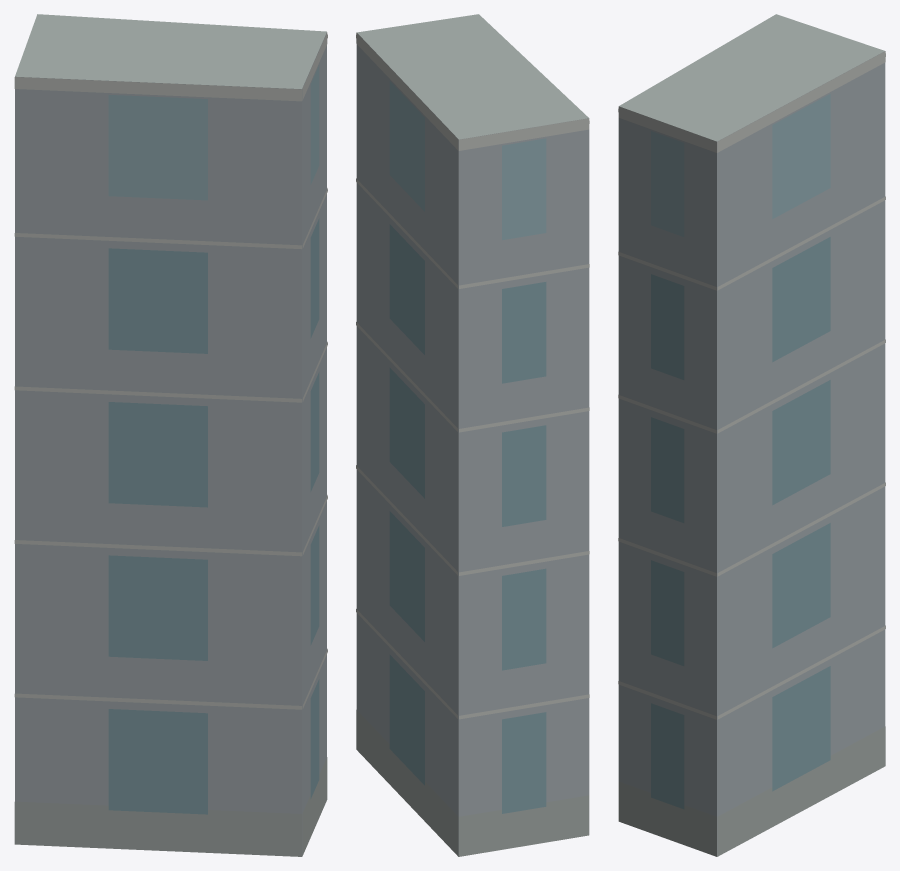
File: survey-upis-32763506.glb
The picture shows the model from 3 angles, left to right: view 1: azimuth 30°, elevation 25°; view 2: azimuth 150°, elevation 25°; view 3: azimuth 270°, elevation 25°; orthographic projection. The views are drawn at different scales.
Visible parts, largest first — view 1: survey-upis-32763506.tmp; view 2: survey-upis-32763506.tmp; view 3: survey-upis-32763506.tmp.
Part boxes in pixels (box(x1,y1,x2,y2)): survey-upis-32763506.tmp: box(14, 14, 327, 856); survey-upis-32763506.tmp: box(356, 14, 589, 856); survey-upis-32763506.tmp: box(618, 14, 885, 856).
Bounding box in the file's own units: 5.85 × 15.25 × 5.17.
